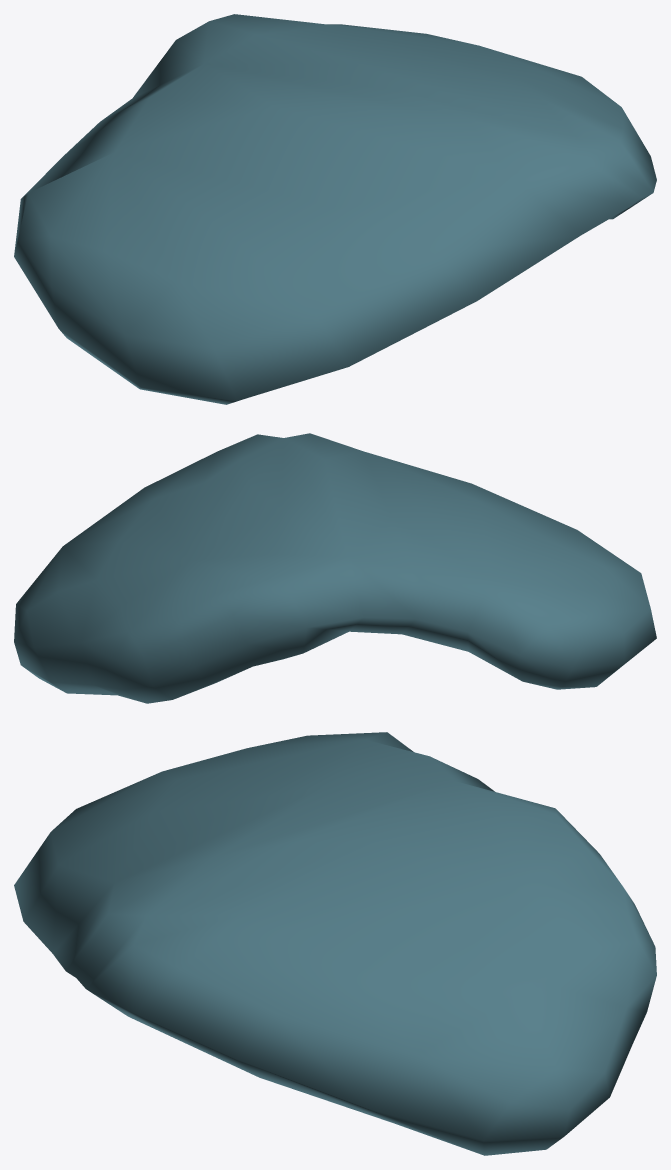
Rendered from Extensor_digitorum_5th_middle_phalanx_left.glb.
The picture shows the model from 3 angles, top to bottom: view 1: azimuth 30°, elevation 25°; view 2: azimuth 150°, elevation 25°; view 3: azimuth 270°, elevation 25°; orthographic projection. The views are drawn at different scales.
Visible parts, largest first — view 1: Extensor_digitorum_on_5th_middle_phalanx.l_Generated_Mesh_Fr; view 2: Extensor_digitorum_on_5th_middle_phalanx.l_Generated_Mesh_Fr; view 3: Extensor_digitorum_on_5th_middle_phalanx.l_Generated_Mesh_Fr.
Part boxes in pixels (box(x1,y1,x2,y2)): Extensor_digitorum_on_5th_middle_phalanx.l_Generated_Mesh_Fr: box(14, 14, 656, 404); Extensor_digitorum_on_5th_middle_phalanx.l_Generated_Mesh_Fr: box(14, 433, 656, 703); Extensor_digitorum_on_5th_middle_phalanx.l_Generated_Mesh_Fr: box(14, 732, 656, 1155).
Bounding box in the file's own units: 0.00292 × 0.000883 × 0.00252.
